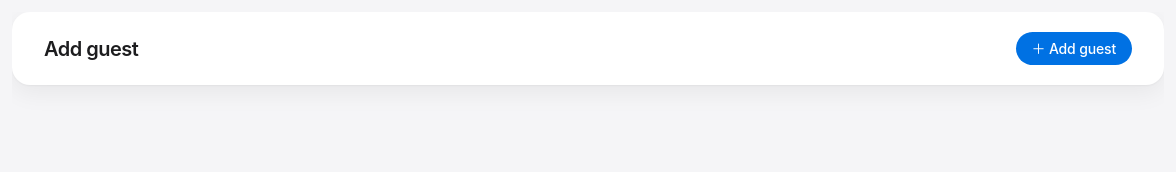
Test: FormPanel › is closed by default and opens on click
This screenshot has width=1176, height=172.
Expected: the text "form body" is not shown
Click the button "Add guest ＋ Add guest".
click(91, 48)  # box [12,12,1164,85]
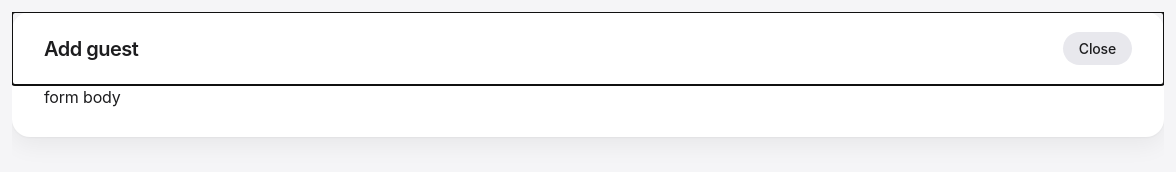
Expected: the text "form body" is shown, [44,87,121,107]
